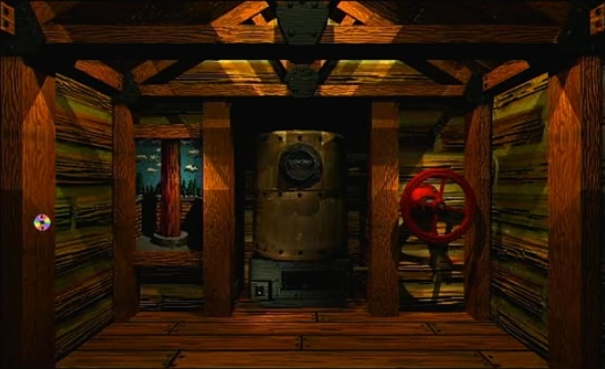Waiting: (30, 211, 52, 233)
